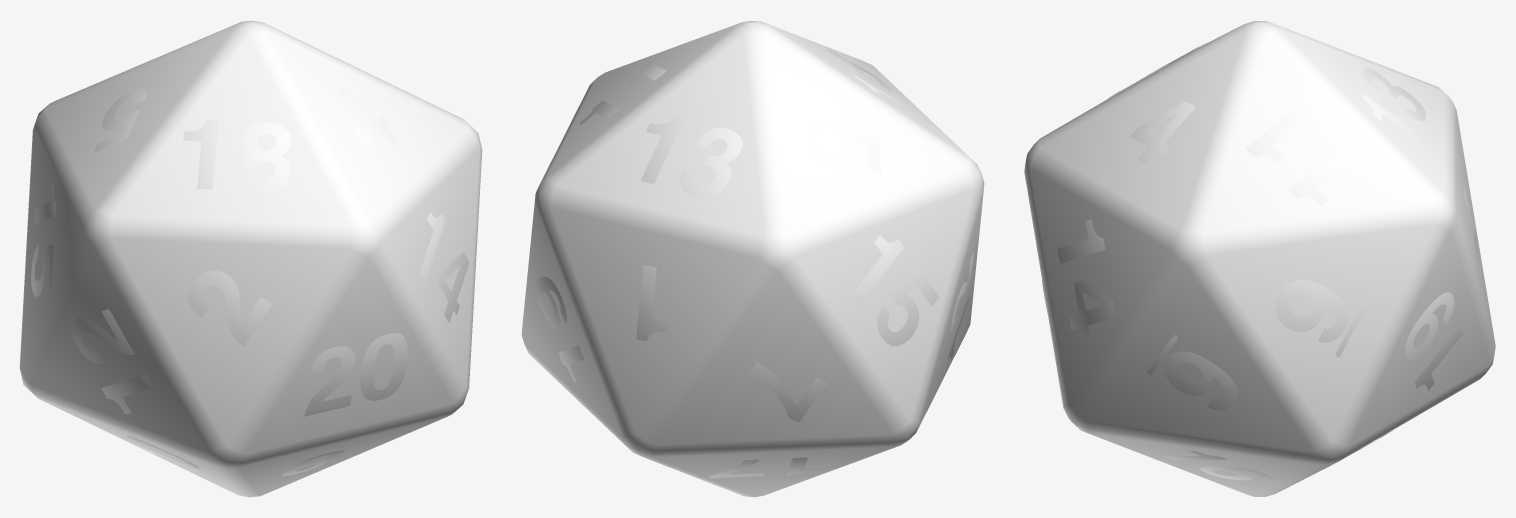
3 renders of one model, left to right at view 1: azimuth 30°, elevation 25°; view 2: azimuth 150°, elevation 25°; view 3: azimuth 270°, elevation 25°, orthographic.
Visible parts, largest first — view 1: D20; view 2: D20; view 3: D20.
Part boxes in pixels (left/top/right/bottom): D20: left=19, top=20, right=482, bottom=497; D20: left=521, top=20, right=984, bottom=497; D20: left=1024, top=21, right=1495, bottom=496.
Bounding box in the file's own units: 0.1712 × 0.2012 × 0.18.
2 materials, 1 textured.
